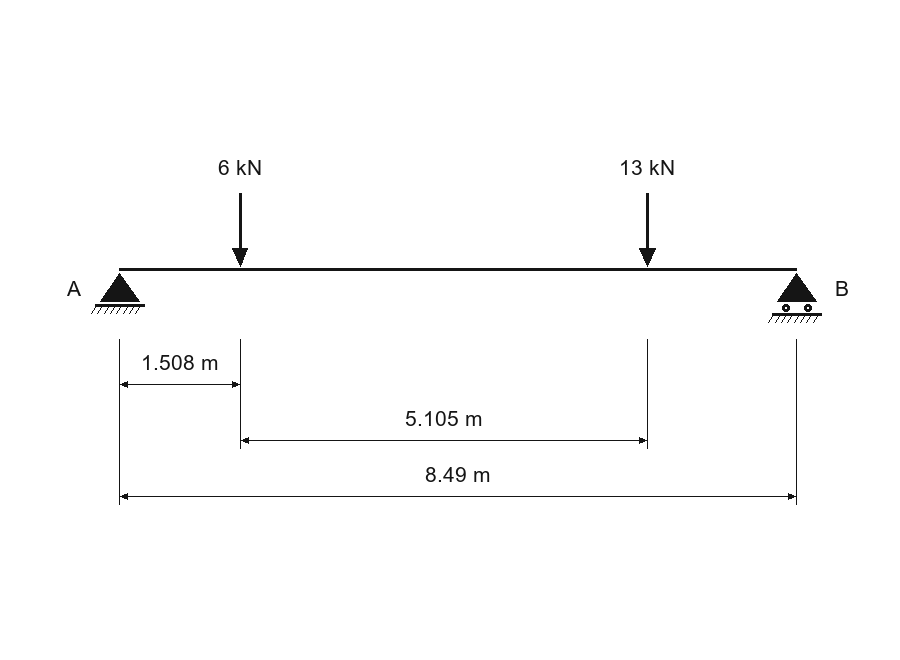pin_support: (91, 273, 145, 314)
point_load: (639, 193, 656, 267), (232, 193, 248, 267)
roller_support: (768, 273, 822, 323)
